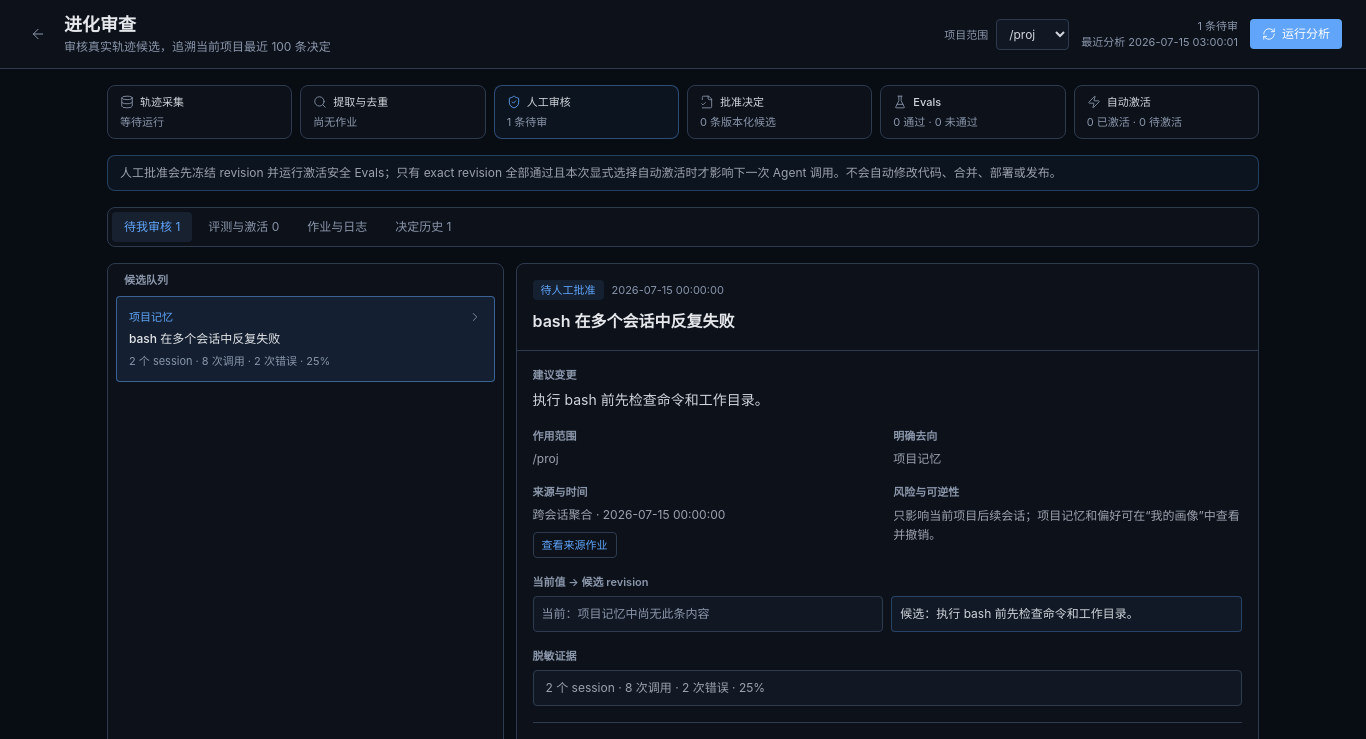
Test: EvolutionWorkbenchPage › loads the exact old source job instead of falling back to the latest job
Step 1. Click the button "查看来源作业" → (574, 545), box [532,532,616,558]
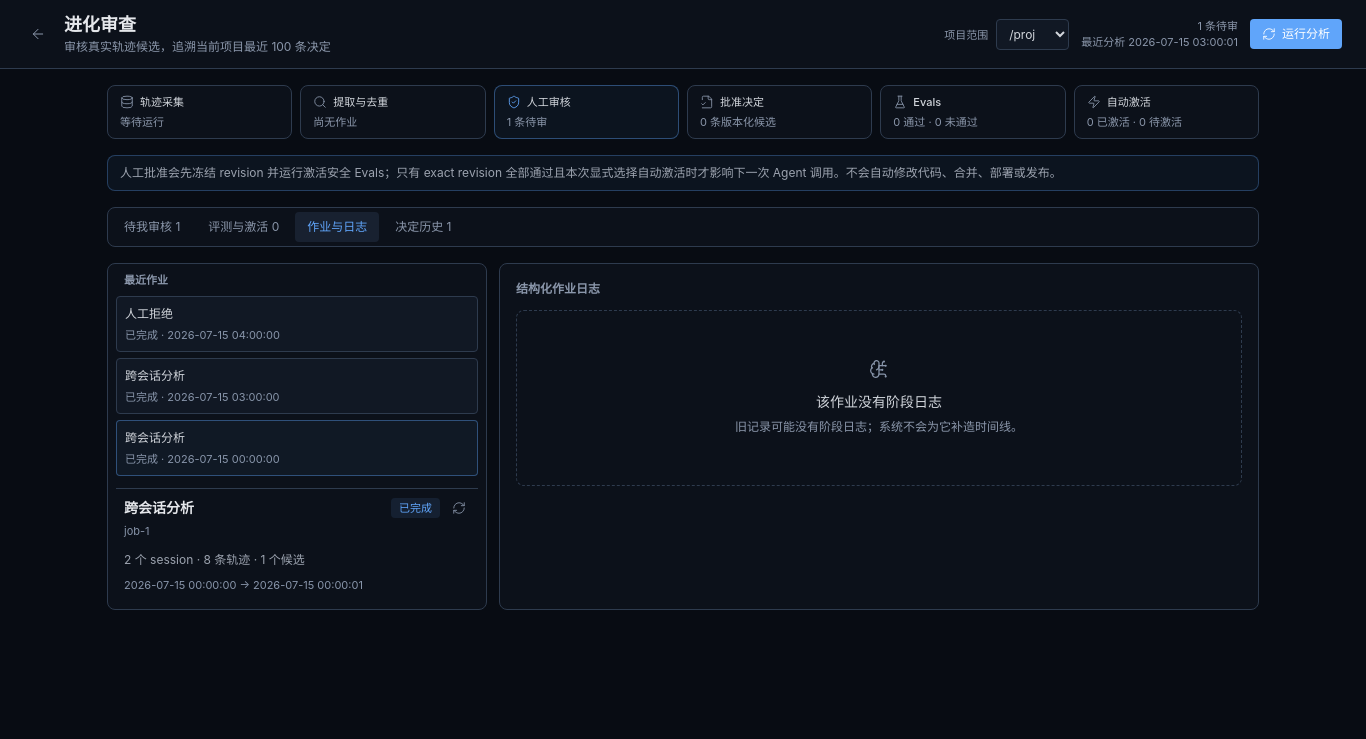
Check: the text "最近分析 2026-07-15 03:00:01" is shown, box [1081,34,1238,50]
Check: the text "job-1" is shown, box [124,524,150,538]
